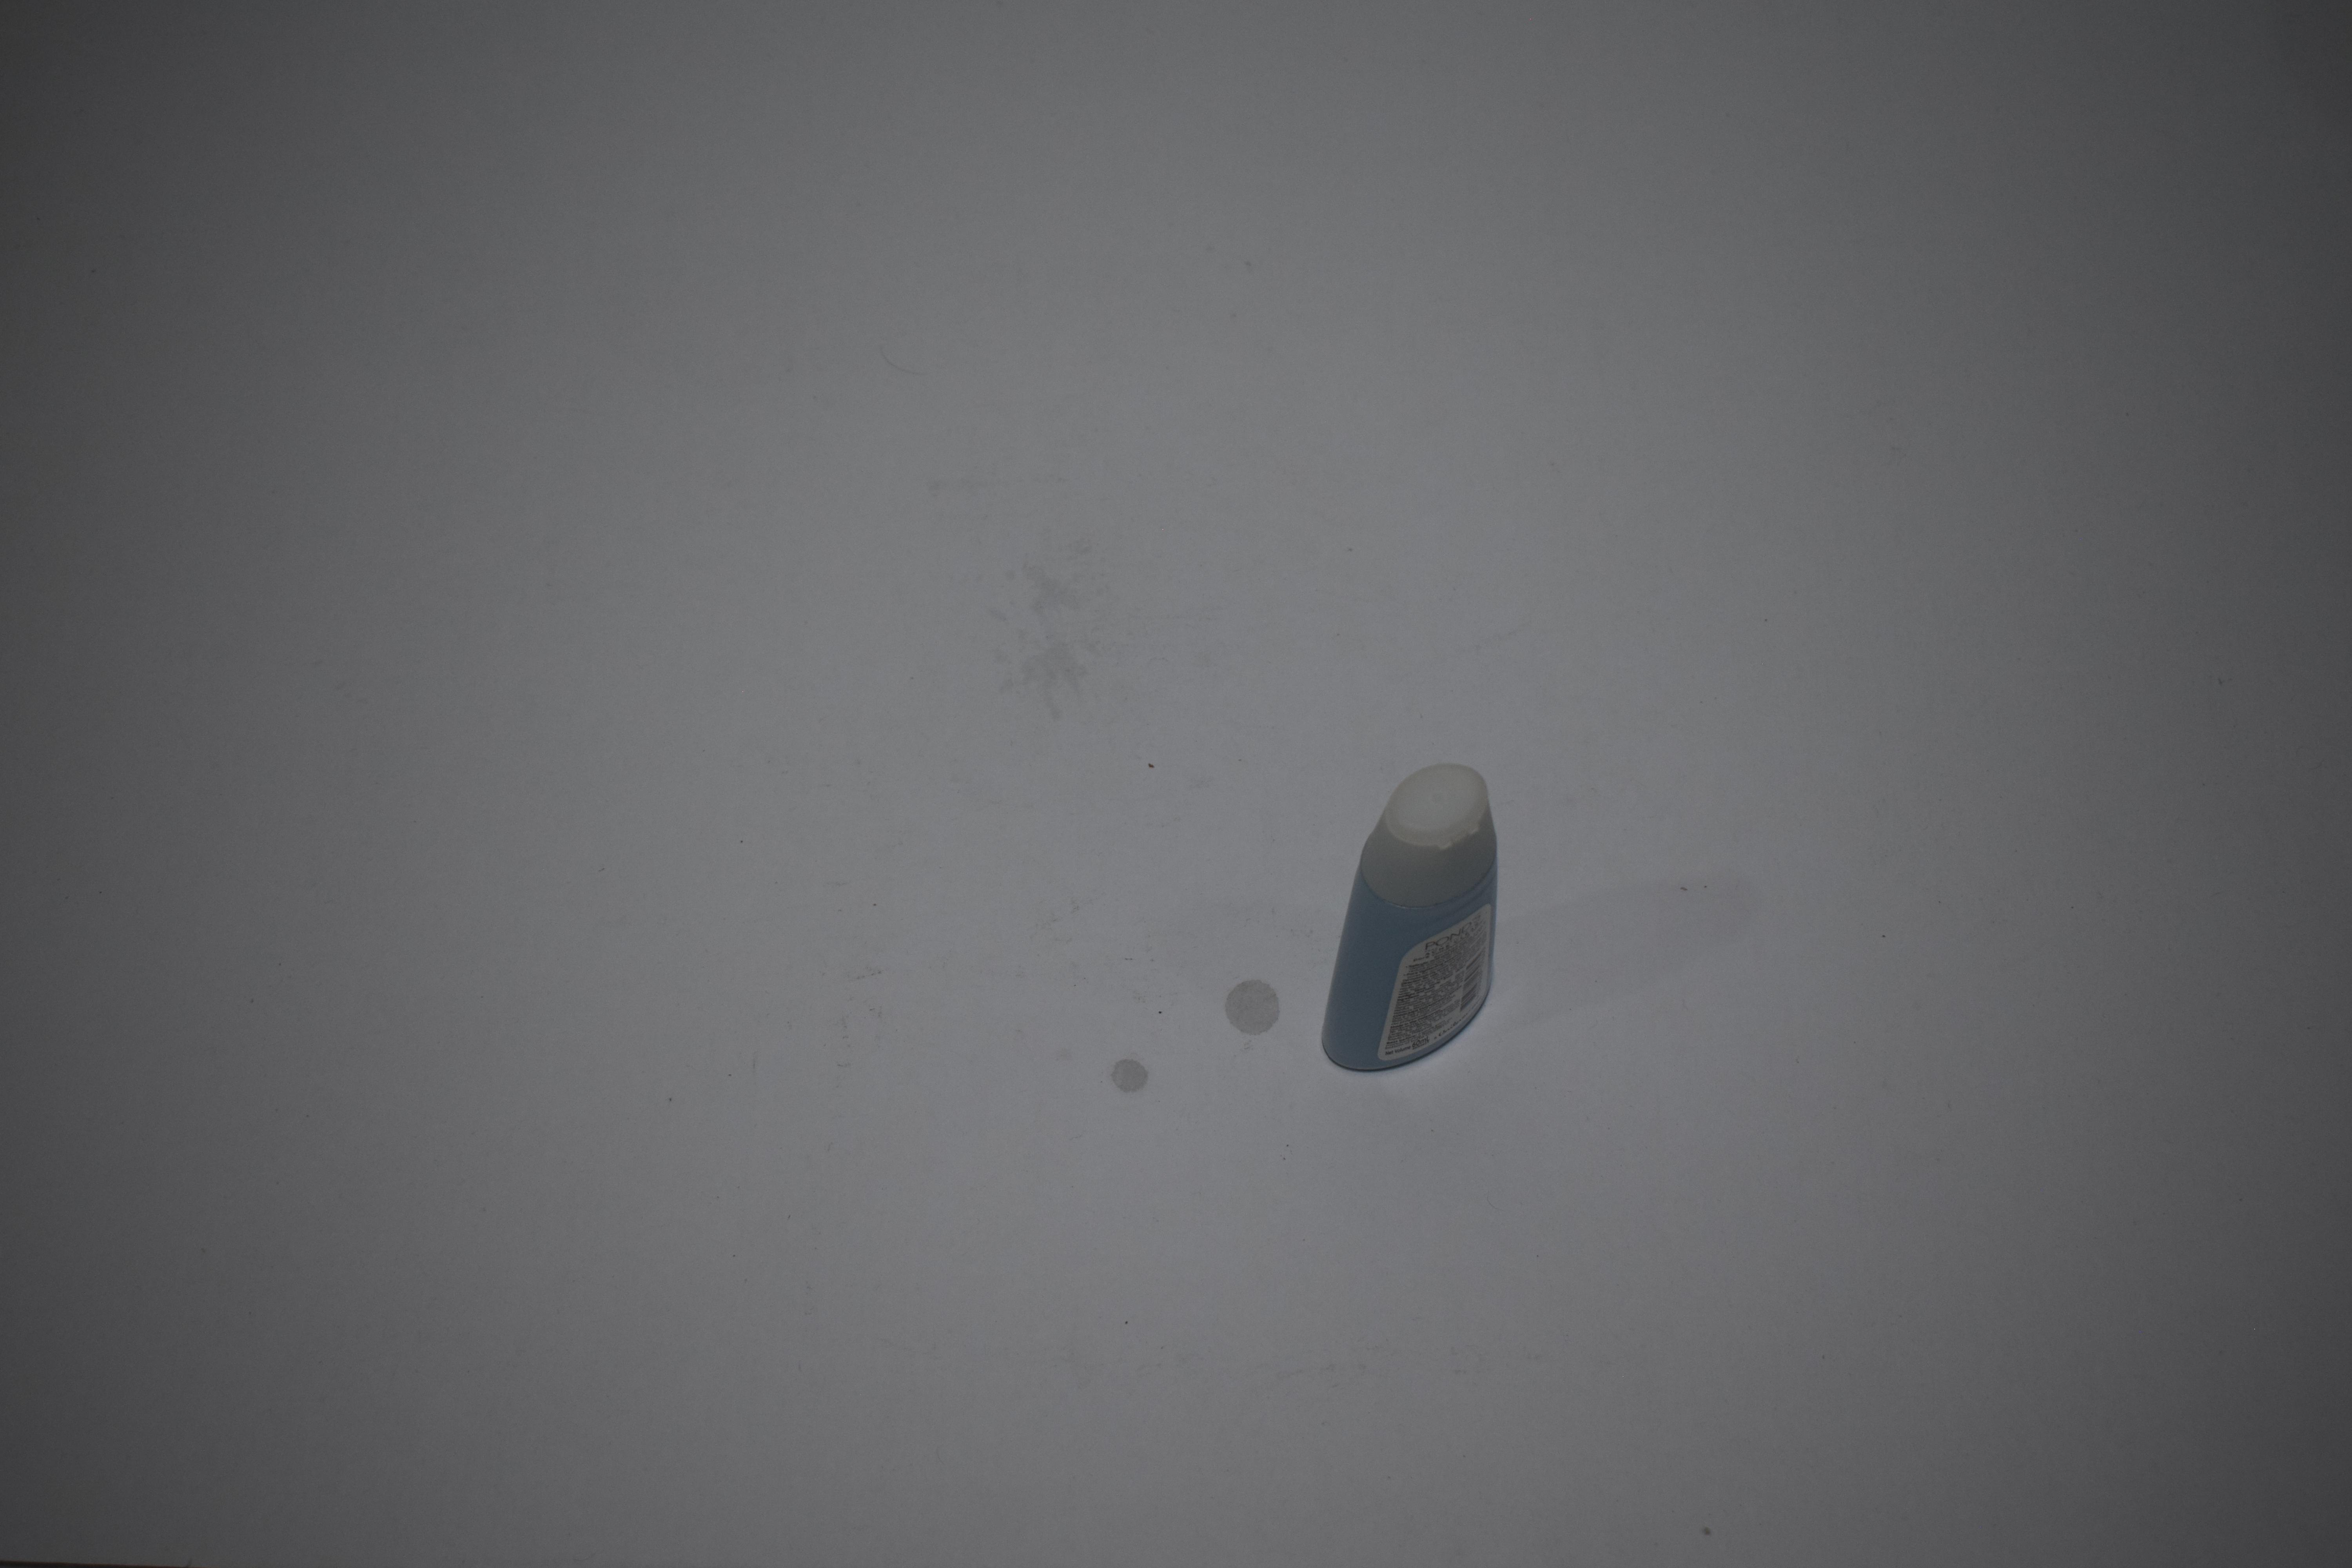bottle: (133, 0, 329, 294)
